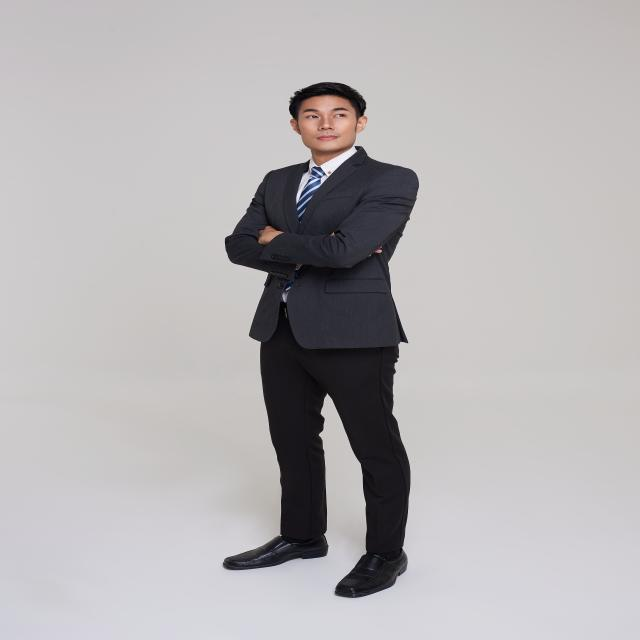Person: (222, 82, 419, 599)
